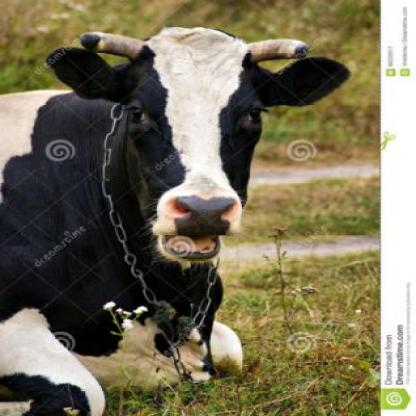lower: (181, 246, 208, 257)
mouth: (154, 189, 242, 263)
upper: (194, 214, 218, 233)
